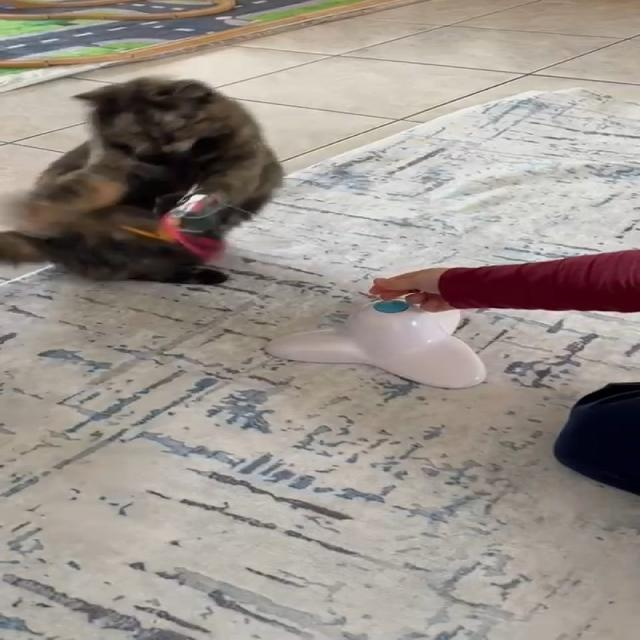authorized: (0, 75, 284, 285)
